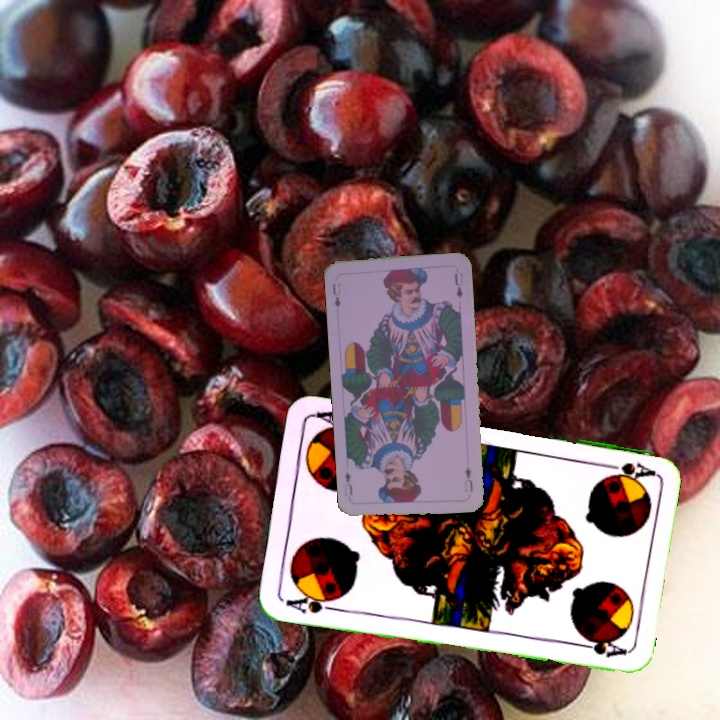EU: (461, 463, 476, 494), (329, 279, 343, 310)
SA: (281, 589, 342, 616), (597, 458, 656, 481)
